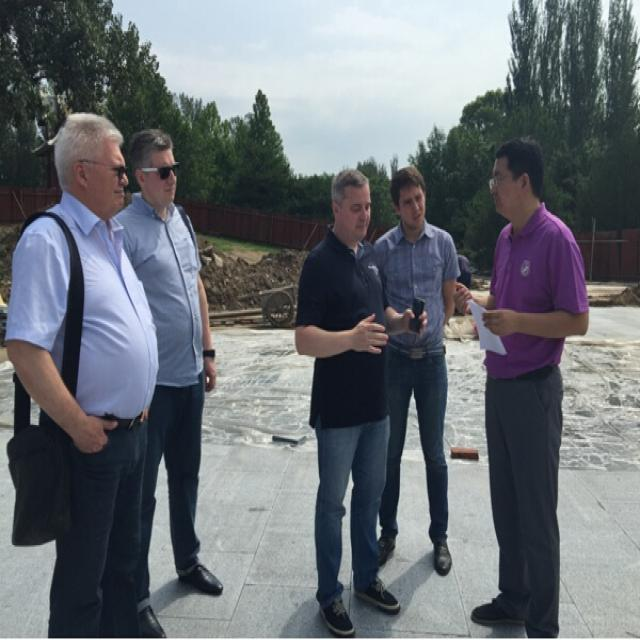body: (5, 107, 162, 640), (450, 131, 591, 638), (292, 165, 429, 639), (108, 124, 225, 638), (372, 165, 463, 579), (448, 249, 471, 313)
